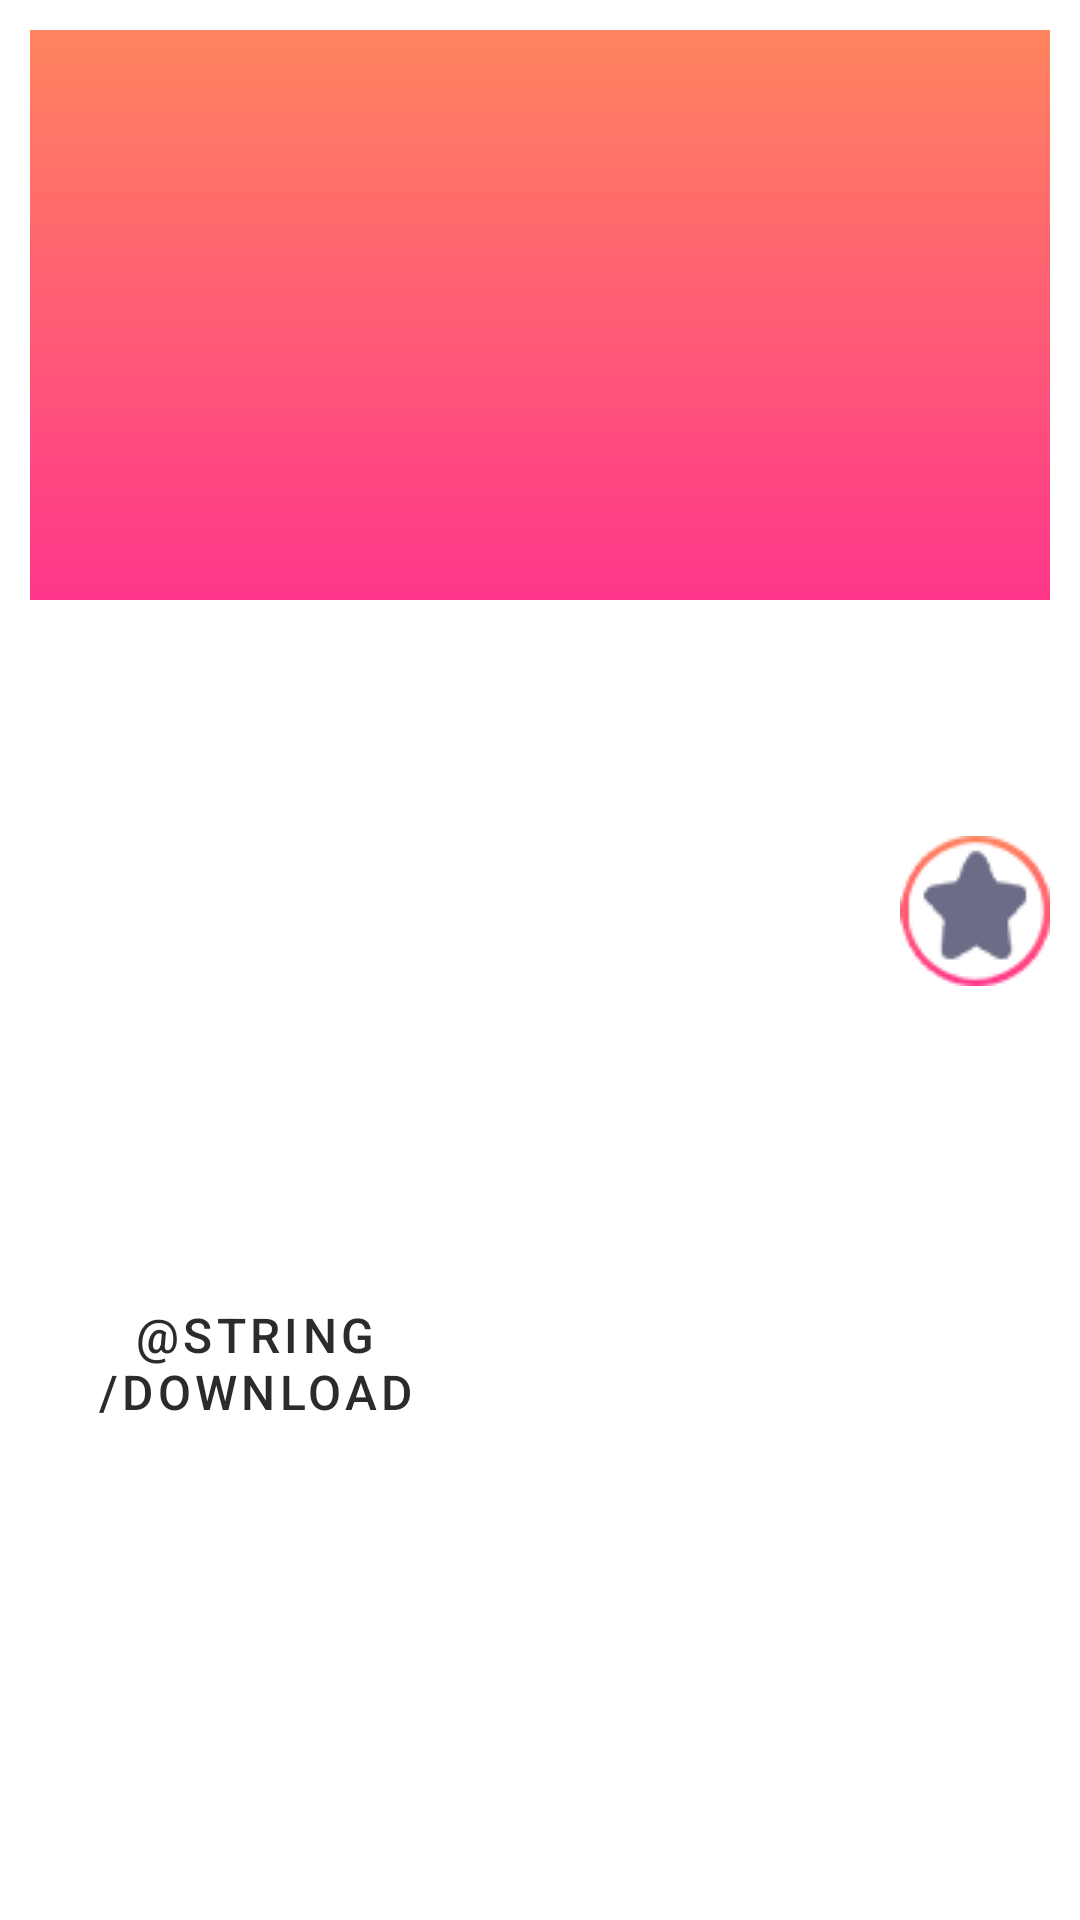

Icons on this 1080x1920 Android screen, each with the point to tap as (x=x, y=y):
Add to Favorite Button: (x=975, y=911)
